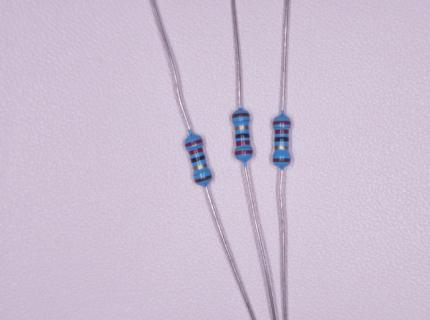Black band: (190, 155, 206, 163), (235, 134, 250, 139), (275, 137, 289, 142)
Brown band: (195, 175, 213, 183), (232, 113, 250, 119), (272, 158, 291, 162)
Gold band: (193, 163, 208, 171), (235, 125, 249, 131), (274, 145, 289, 150)
Red band: (184, 139, 203, 148), (188, 147, 204, 155), (234, 150, 253, 156), (235, 140, 250, 146), (274, 129, 289, 134), (273, 121, 291, 125)
